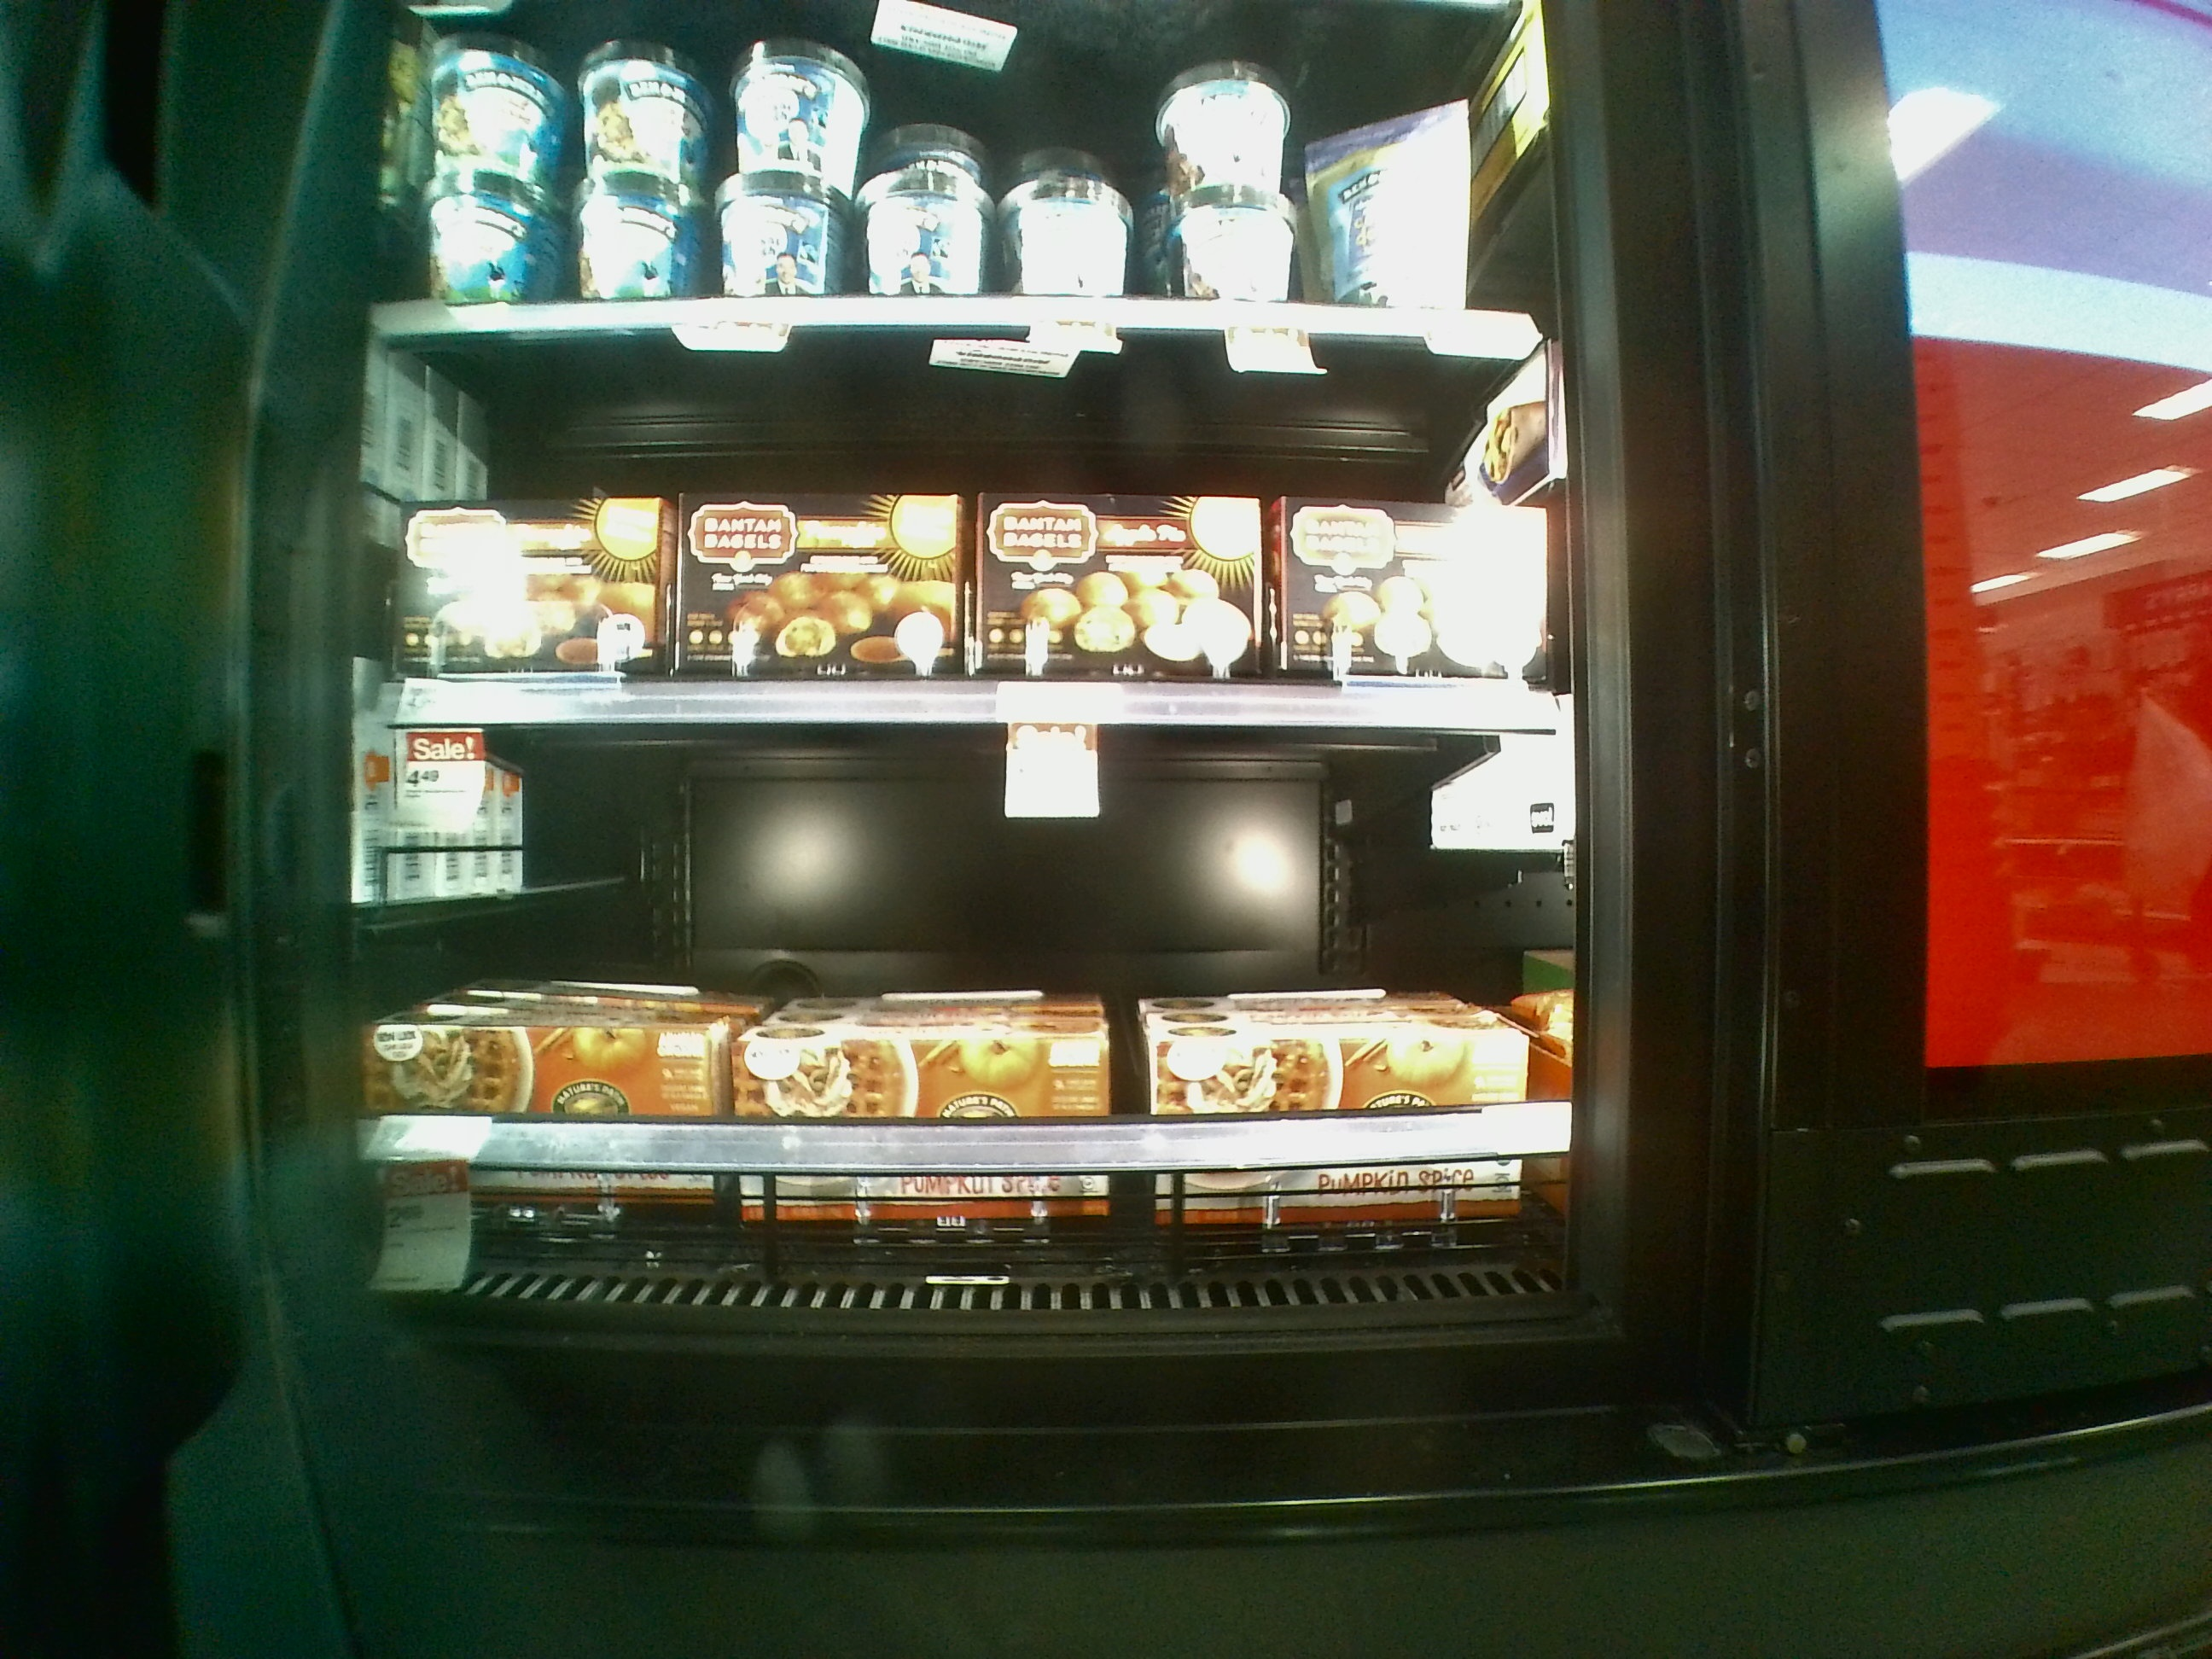shelf: (345, 690, 1576, 1337), (369, 310, 1559, 737)
